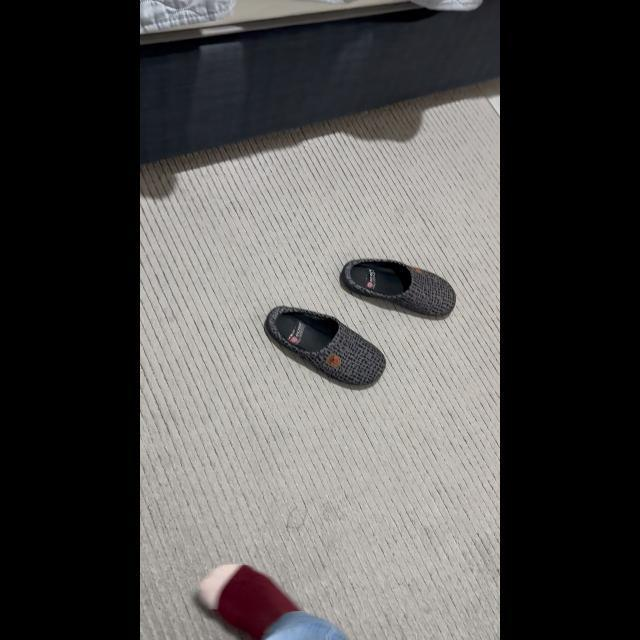slipper: (258, 298, 392, 390), (342, 250, 462, 322)
